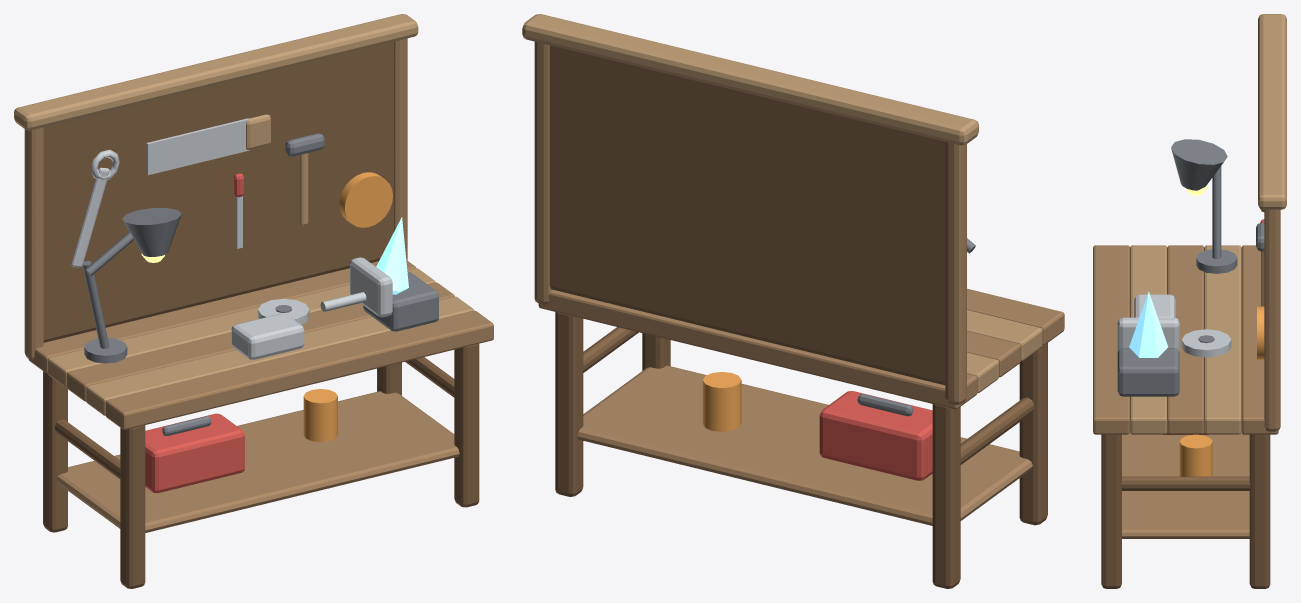
Rendered from workbench.glb.
3 renders of one model, left to right at view 1: azimuth 30°, elevation 25°; view 2: azimuth 150°, elevation 25°; view 3: azimuth 270°, elevation 25°, orthographic. The views are drawn at different scales.
Parts seen in each view (by area): view 1: Workbench.001; view 2: Workbench.001; view 3: Workbench.001.
Boxes of the visible parts, bbox=[...] form: Workbench.001: bbox=[14, 14, 493, 588]; Workbench.001: bbox=[522, 14, 1064, 588]; Workbench.001: bbox=[1093, 14, 1286, 588].
Size of the model in its own units: 2.12 by 2.16 by 0.94.
